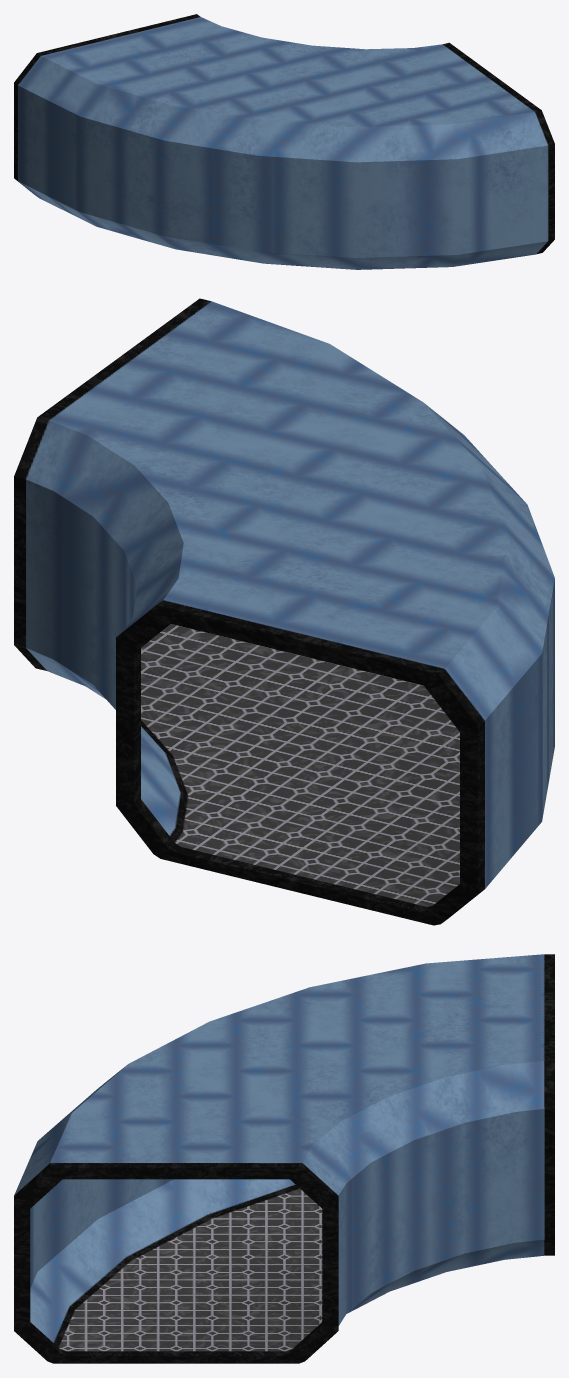
File: Hall - Curve - Textures.gltf
The picture shows the model from 3 angles, top to bottom: view 1: azimuth 30°, elevation 25°; view 2: azimuth 150°, elevation 25°; view 3: azimuth 270°, elevation 25°; orthographic projection. The views are drawn at different scales.
Parts seen in each view (by area): view 1: Corner; view 2: Corner; view 3: Corner.
Boxes of the visible parts, left/top/right/bottom form: Corner: left=14, top=14, right=554, bottom=269; Corner: left=14, top=298, right=554, bottom=925; Corner: left=14, top=954, right=554, bottom=1363.
Size of the model in its own units: 5 by 2 by 5.
1 material, 1 textured.
